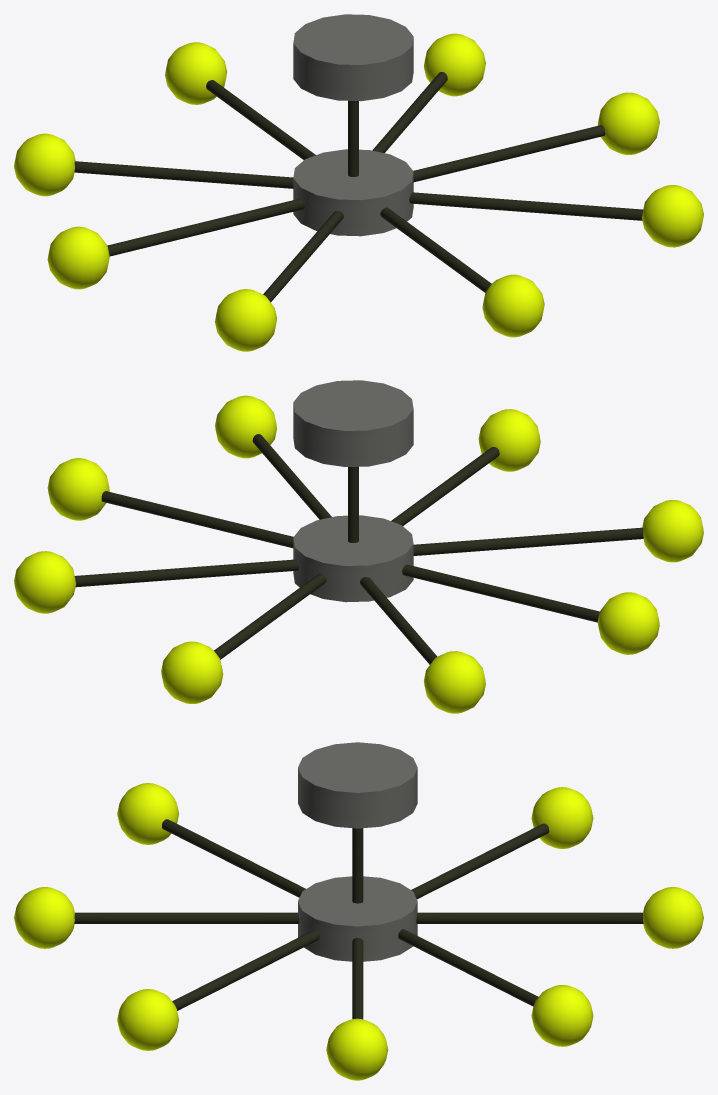
Rendered from Chandelier.fbx.
3 views of the same model, one above another, from view 1: azimuth 30°, elevation 25°; view 2: azimuth 150°, elevation 25°; view 3: azimuth 270°, elevation 25° (orthographic).
Parts seen in each view (by area): view 1: Cylinder, Cylinder_2, Sphere_3, Sphere_4, Sphere_2, Cylinder_3_3, Cylinder_3_4, Cylinder_3_2, Sphere, Sphere_1, Cylinder_4, Cylinder_3 (+1 smaller); view 2: Cylinder, Cylinder_2, Sphere_2, Sphere_4, Sphere_3, Cylinder_3_3, Cylinder_3_4, Cylinder_3_2, Sphere_1, Sphere, Cylinder_3, Cylinder_4 (+1 smaller); view 3: Cylinder, Cylinder_2, Sphere_2, Sphere_3, Cylinder_3_4, Cylinder_3_2, Sphere_4, Sphere_1, Sphere, Cylinder_3, Cylinder_4, Cylinder_3_3 (+1 smaller).
Part boxes in pixels (bbox=[...]): Cylinder: bbox=[293, 14, 413, 101]; Cylinder_2: bbox=[293, 149, 413, 236]; Sphere_3: bbox=[215, 185, 703, 351]; Sphere_4: bbox=[47, 92, 659, 289]; Sphere_2: bbox=[14, 33, 485, 196]; Cylinder_3_3: bbox=[107, 125, 605, 256]; Cylinder_3_4: bbox=[263, 192, 643, 302]; Cylinder_3_2: bbox=[74, 72, 447, 188]; Sphere: bbox=[482, 274, 544, 337]; Sphere_1: bbox=[165, 42, 226, 104]; Cylinder_4: bbox=[380, 207, 491, 292]; Cylinder_3: bbox=[206, 80, 315, 159]; Cylinder: bbox=[293, 380, 413, 466]; Cylinder_2: bbox=[293, 515, 413, 602]; Sphere_2: bbox=[14, 551, 485, 713]; Sphere_4: bbox=[47, 458, 659, 654]; Sphere_3: bbox=[215, 395, 703, 562]; Cylinder_3_3: bbox=[101, 491, 599, 622]; Cylinder_3_4: bbox=[252, 434, 643, 555]; Cylinder_3_2: bbox=[74, 559, 437, 664]; Sphere_1: bbox=[161, 641, 223, 703]; Sphere: bbox=[478, 409, 540, 471]; Cylinder_3: bbox=[214, 573, 326, 659]; Cylinder_4: bbox=[391, 447, 499, 525]; Cylinder: bbox=[298, 742, 417, 828]; Cylinder_2: bbox=[298, 876, 417, 961]; Sphere_2: bbox=[531, 787, 593, 1046]; Sphere_3: bbox=[117, 783, 178, 1050]; Cylinder_3_4: bbox=[162, 819, 319, 1010]; Cylinder_3_2: bbox=[398, 823, 549, 1006]; Sphere_4: bbox=[326, 1018, 388, 1080]; Sphere_1: bbox=[643, 887, 703, 948]; Sphere: bbox=[14, 887, 74, 948]; Cylinder_3: bbox=[416, 912, 643, 923]; Cylinder_4: bbox=[74, 912, 299, 923]; Cylinder_3_3: bbox=[352, 937, 363, 1019].
Bounding box in the file's own units: 575 × 163 × 575.
